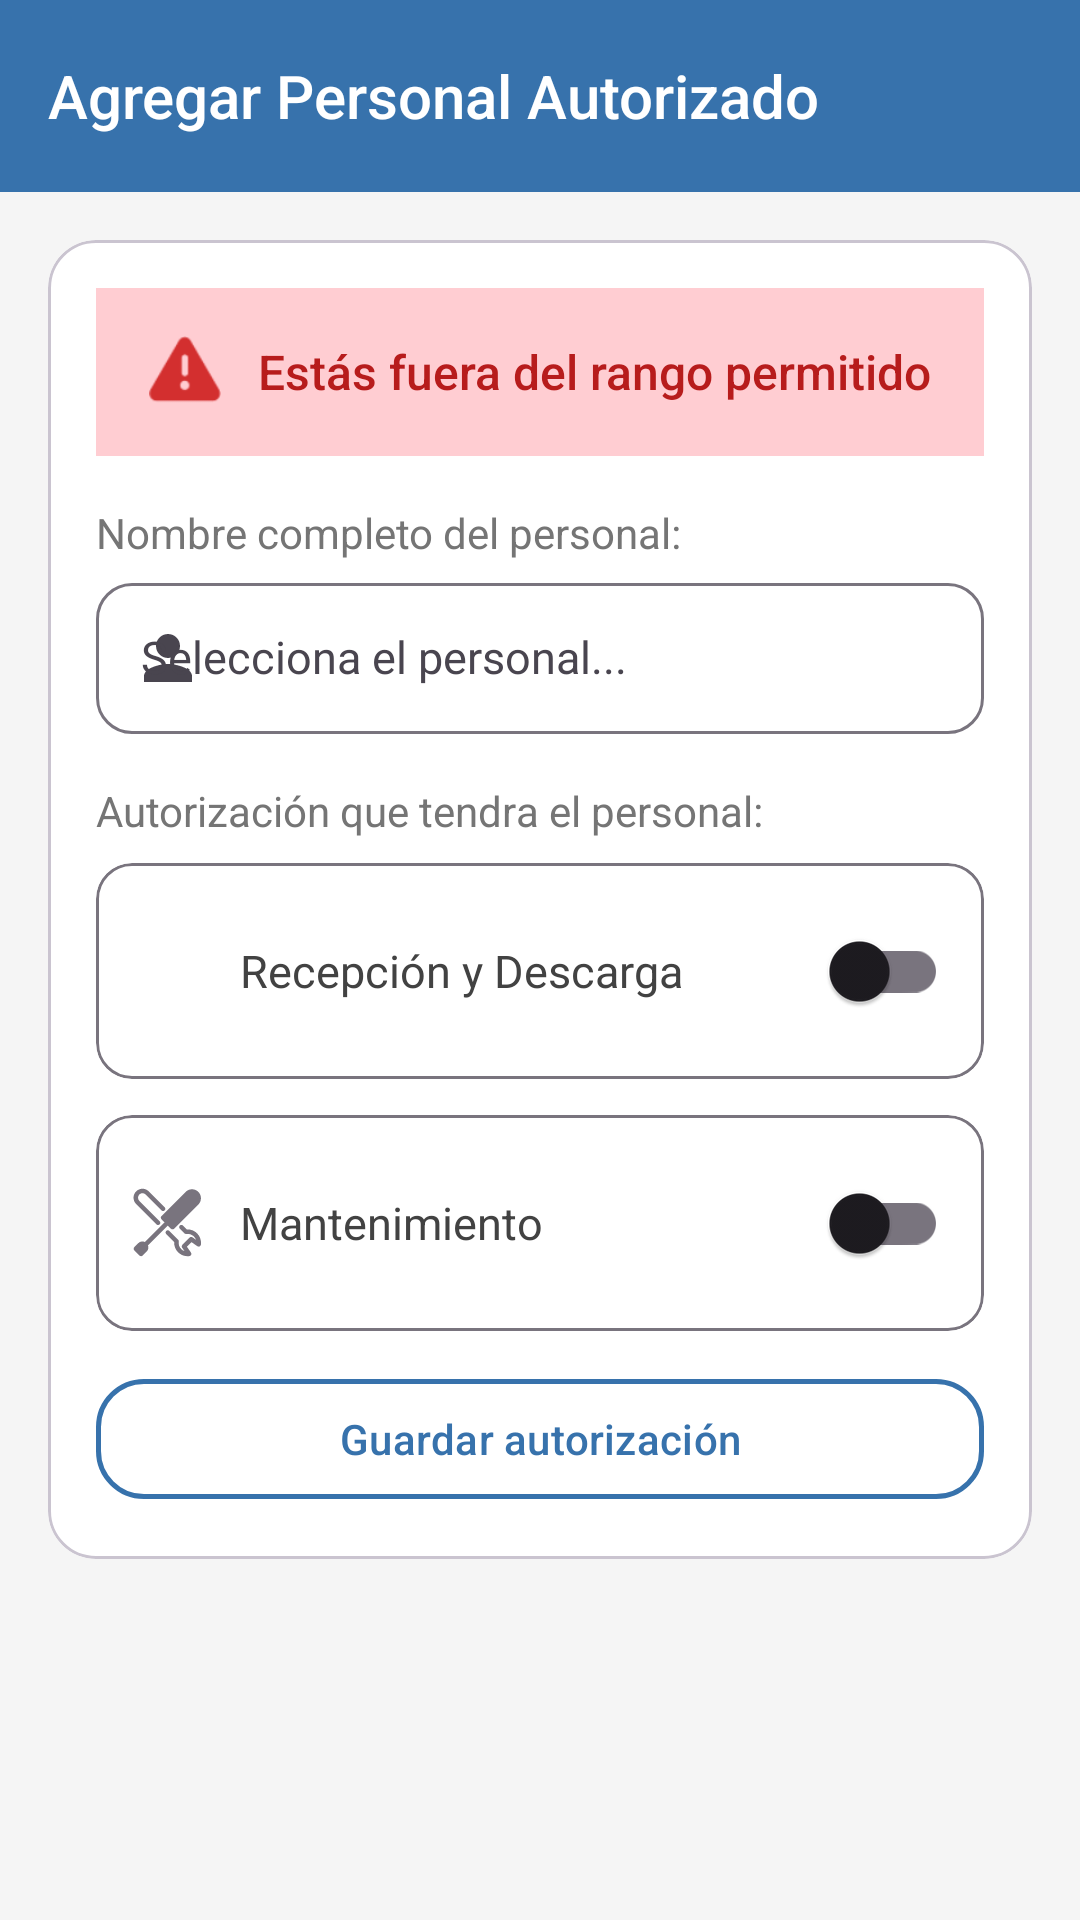

Screen size 1080px×1920px. Icon name, then its box in pixels as (x1, y1, x2, y2):
alert: (149, 336, 221, 402)
